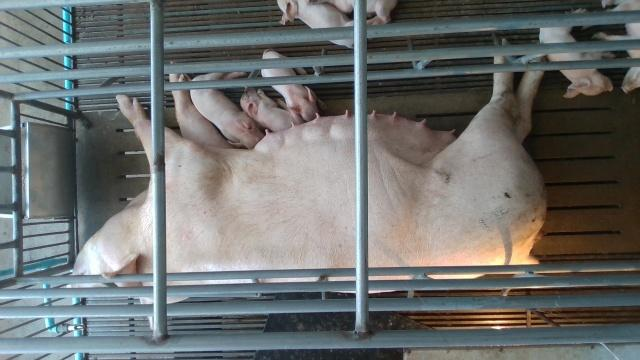piglet: (540, 9, 613, 97), (189, 73, 264, 150), (260, 49, 326, 120), (593, 0, 640, 94), (276, 0, 354, 50), (241, 88, 304, 131)
sow-sleep-lactate: (72, 31, 546, 296)
